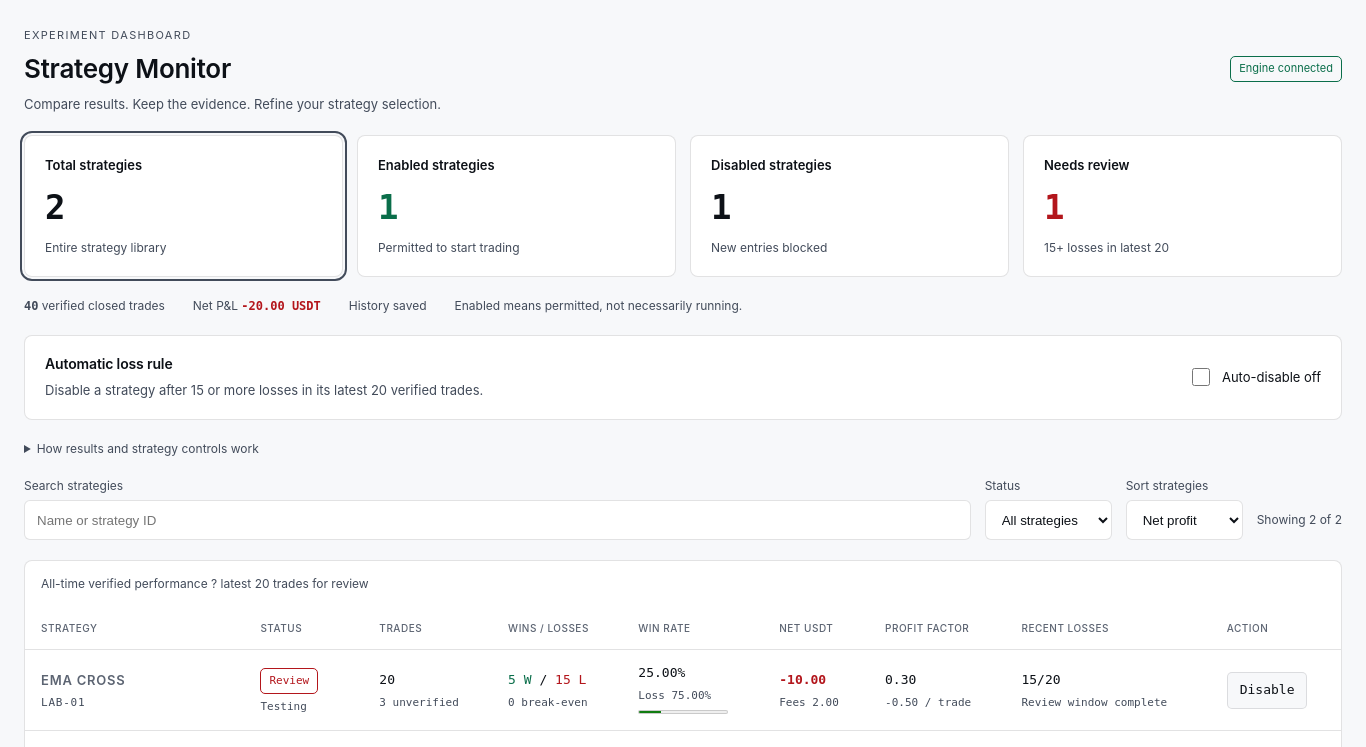
Test case: filters by summary cards and search without changing global totals
Click the button "Disabled strategies 1 New entries blocked" at (771, 165), box [690, 135, 1009, 277]
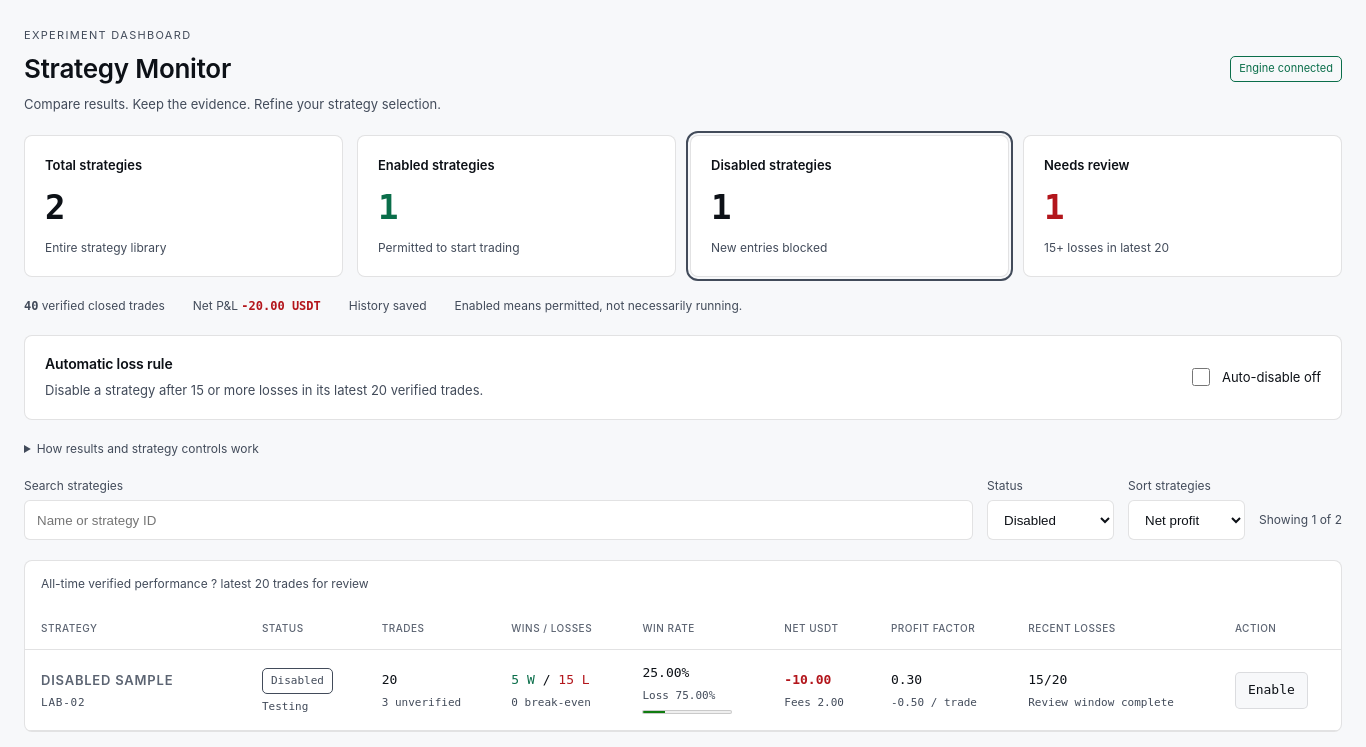
Check: the button with aria-label "Enable lab-02" is shown, box [1235, 672, 1308, 708]
Check: the text "Showing 1 of 2" is shown, box [1259, 512, 1342, 527]
Type "unknown" into the search field labelled "Search strategies" at (499, 520), box [24, 500, 973, 540]
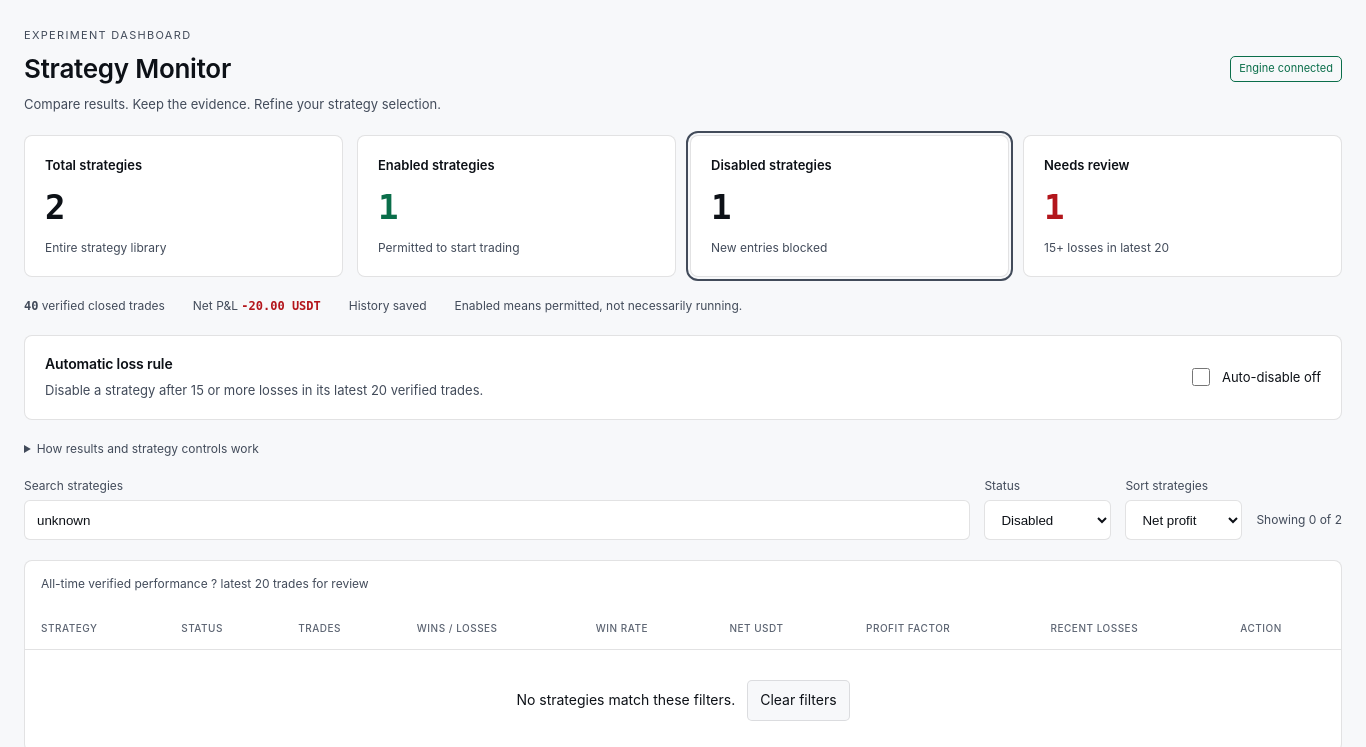
Check: the text "No strategies match these filters. Clear filters" is shown, box [516, 680, 850, 721]
Click the button "Clear filters" at (798, 700), box [747, 680, 850, 721]
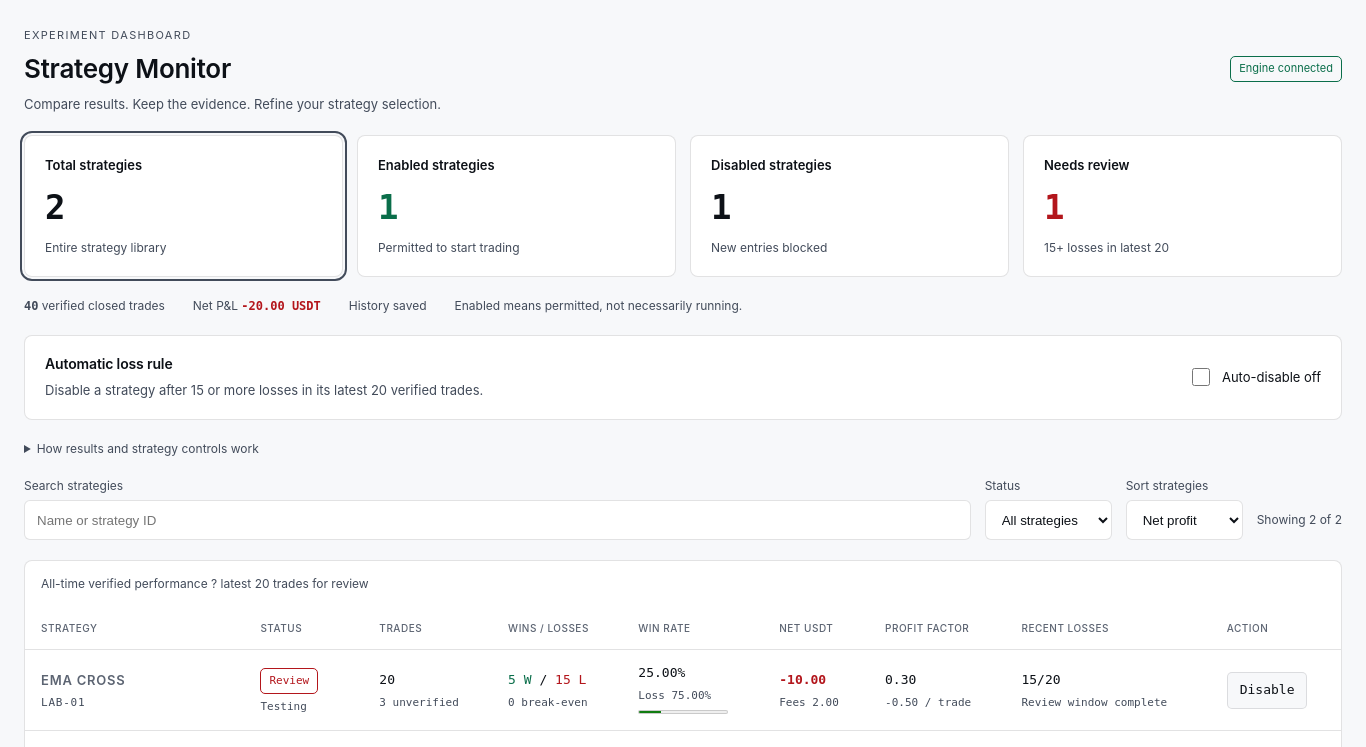
Check: the text "Showing 2 of 2" is shown, box [1257, 512, 1342, 527]
